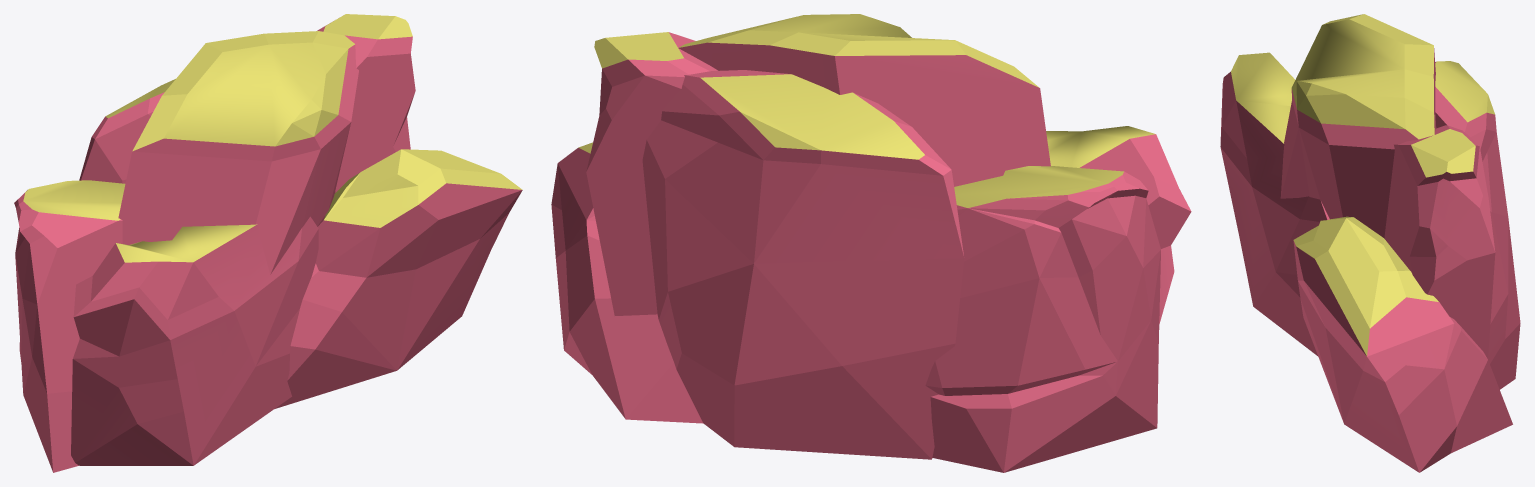
The model's file is rock_01.fbx.
3 renders of one model, left to right at view 1: azimuth 30°, elevation 25°; view 2: azimuth 150°, elevation 25°; view 3: azimuth 270°, elevation 25°, orthographic. The views are drawn at different scales.
Visible parts, largest first — view 1: rock_01; view 2: rock_01; view 3: rock_01.
Part boxes in pixels (box(x1,y1,x2,y2)): rock_01: box(14, 14, 522, 472); rock_01: box(551, 14, 1191, 472); rock_01: box(1220, 14, 1520, 472).
Size of the model in its own units: 909 by 557 by 483.
